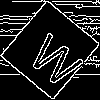W: (25, 25, 91, 91)
